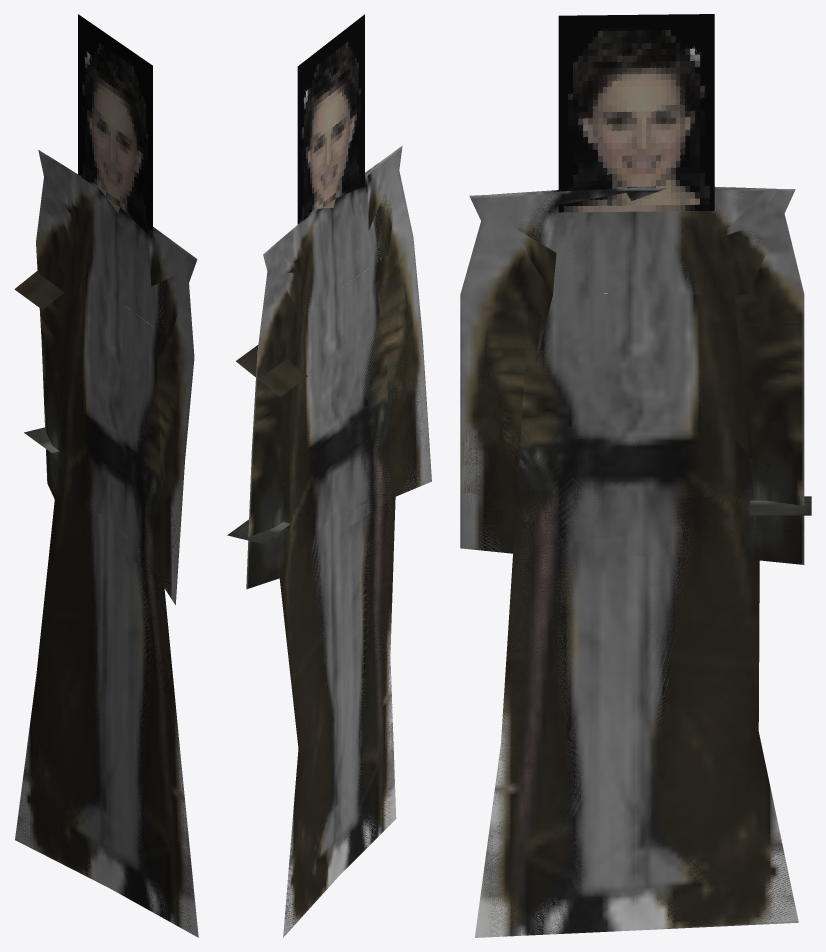
The model's file is person.glb.
The picture shows the model from 3 angles, left to right: view 1: azimuth 30°, elevation 25°; view 2: azimuth 150°, elevation 25°; view 3: azimuth 270°, elevation 25°; orthographic projection. The views are drawn at different scales.
Parts seen in each view (by area): view 1: man.ms3d.mo; view 2: man.ms3d.mo; view 3: man.ms3d.mo.
Boxes of the visible parts, box(x1,y1,x2,y2) form: man.ms3d.mo: box(14, 14, 198, 937); man.ms3d.mo: box(227, 14, 431, 937); man.ms3d.mo: box(460, 14, 811, 937).
Bounding box in the file's own units: 3.1 × 49.35 × 17.04.
2 materials, 2 textured.
